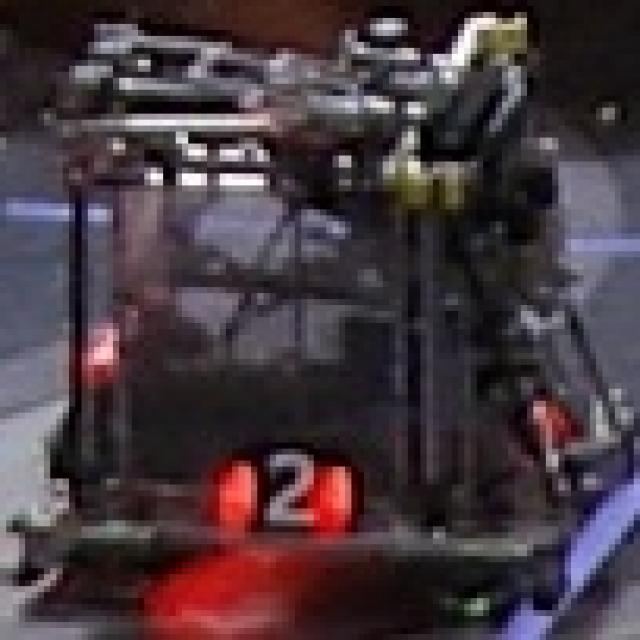R2: (195, 437, 376, 544)
